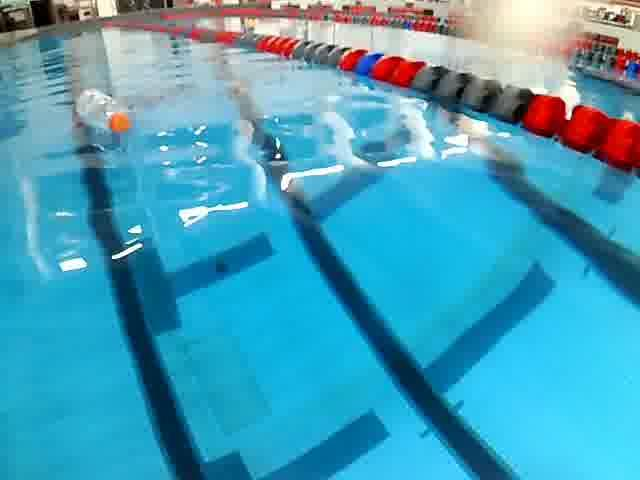Bottle: (72, 80, 139, 140)
